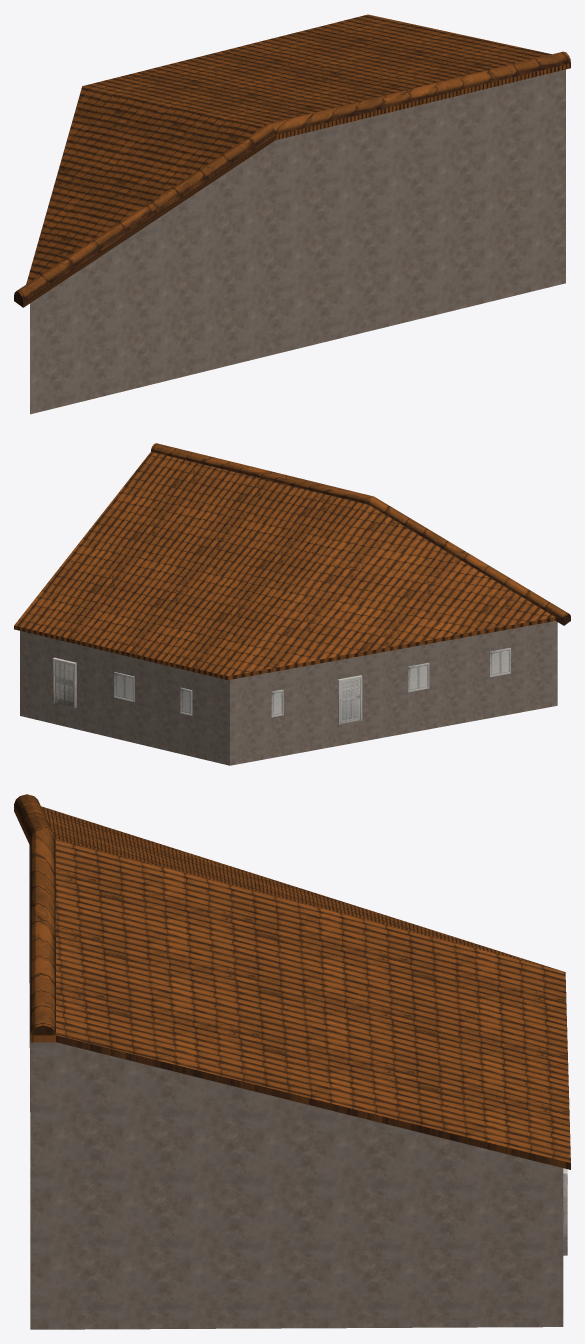
The model's file is Farmacia.fbx.
3 renders of one model, top to bottom at view 1: azimuth 30°, elevation 25°; view 2: azimuth 150°, elevation 25°; view 3: azimuth 270°, elevation 25°, orthographic. The views are drawn at different scales.
Visible parts, largest first — view 1: Farmacia; view 2: Farmacia; view 3: Farmacia.
Part boxes in pixels (left/top/right/bottom): Farmacia: left=14, top=14, right=570, bottom=414; Farmacia: left=14, top=443, right=570, bottom=765; Farmacia: left=14, top=794, right=570, bottom=1329.
Size of the model in its own units: 19.28 by 7.54 by 12.35.
